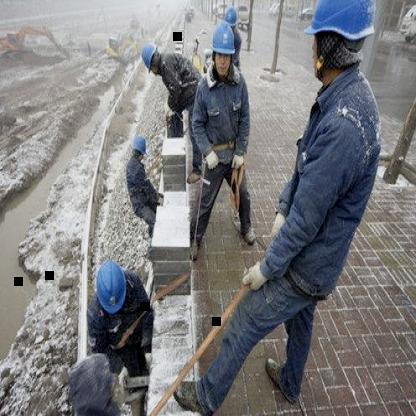helmet: (304, 0, 378, 48), (92, 247, 128, 320), (201, 20, 243, 63), (138, 38, 157, 77), (129, 130, 149, 160)
